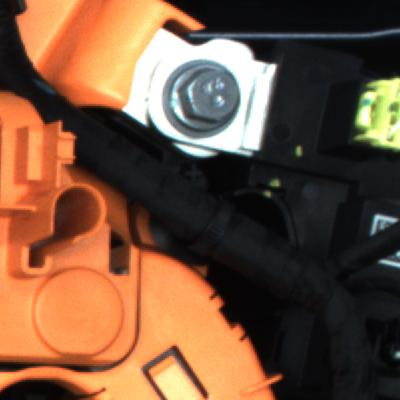nut_b: (153, 52, 262, 146)
